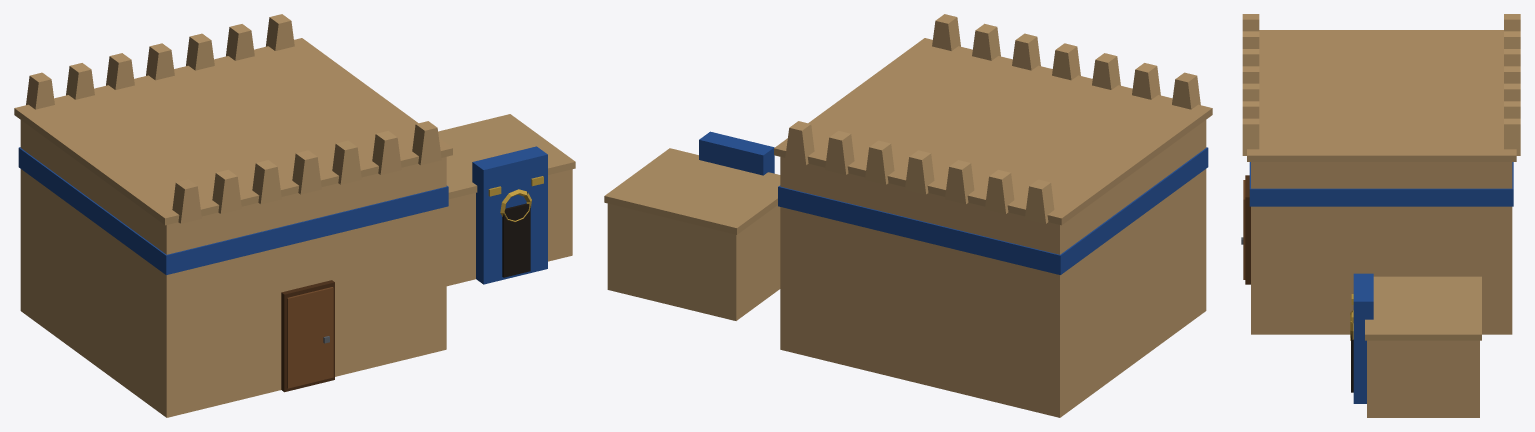
The model's file is minotaur_hall_broken.glb.
3 views of the same model, side by side, from view 1: azimuth 30°, elevation 25°; view 2: azimuth 150°, elevation 25°; view 3: azimuth 270°, elevation 25° (orthographic). The views are drawn at different scales.
Parts seen in each view (by area): view 1: minotaur_hall_piece6, minotaur_hall_piece1, minotaur_hall_piece3, minotaur_hall_piece11, minotaur_hall_piece8, minotaur_hall_piece4, minotaur_hall_piece9, minotaur_hall_piece0, minotaur_hall_piece2, minotaur_hall_piece13, minotaur_hall_piece10, minotaur_hall_piece5 (+1 smaller); view 2: minotaur_hall_piece1, minotaur_hall_piece13, minotaur_hall_piece6, minotaur_hall_piece4, minotaur_hall_piece0, minotaur_hall_piece5, minotaur_hall_piece8, minotaur_hall_piece9, minotaur_hall_piece3, minotaur_hall_piece2, minotaur_hall_piece12; view 3: minotaur_hall_piece4, minotaur_hall_piece9, minotaur_hall_piece13, minotaur_hall_piece5, minotaur_hall_piece8, minotaur_hall_piece1, minotaur_hall_piece7, minotaur_hall_piece0, minotaur_hall_piece2, minotaur_hall_piece6, minotaur_hall_piece3, minotaur_hall_piece10 (+2 smaller).
Part boxes in pixels (bbox=[...]): minotaur_hall_piece6: bbox=[88, 140, 293, 417]; minotaur_hall_piece1: bbox=[14, 64, 194, 365]; minotaur_hall_piece3: bbox=[137, 130, 405, 389]; minotaur_hall_piece11: bbox=[237, 172, 446, 306]; minotaur_hall_piece8: bbox=[175, 119, 402, 217]; minotaur_hall_piece4: bbox=[368, 96, 575, 217]; minotaur_hall_piece9: bbox=[249, 102, 452, 246]; minotaur_hall_piece0: bbox=[77, 24, 333, 105]; minotaur_hall_piece2: bbox=[158, 112, 446, 359]; minotaur_hall_piece13: bbox=[239, 14, 380, 106]; minotaur_hall_piece10: bbox=[446, 219, 547, 286]; minotaur_hall_piece5: bbox=[446, 195, 572, 261]; minotaur_hall_piece1: bbox=[876, 150, 1136, 417]; minotaur_hall_piece13: bbox=[774, 90, 925, 372]; minotaur_hall_piece6: bbox=[1066, 86, 1212, 362]; minotaur_hall_piece4: bbox=[604, 79, 880, 258]; minotaur_hall_piece0: bbox=[828, 103, 994, 288]; minotaur_hall_piece5: bbox=[607, 222, 842, 364]; minotaur_hall_piece8: bbox=[978, 25, 1198, 135]; minotaur_hall_piece9: bbox=[869, 14, 991, 133]; minotaur_hall_piece3: bbox=[1035, 99, 1159, 157]; minotaur_hall_piece2: bbox=[979, 121, 1052, 154]; minotaur_hall_piece12: bbox=[931, 124, 980, 177]; minotaur_hall_piece4: bbox=[1337, 146, 1493, 369]; minotaur_hall_piece9: bbox=[1242, 99, 1418, 282]; minotaur_hall_piece13: bbox=[1362, 111, 1520, 293]; minotaur_hall_piece5: bbox=[1350, 271, 1512, 417]; minotaur_hall_piece8: bbox=[1242, 14, 1401, 129]; minotaur_hall_piece1: bbox=[1384, 14, 1520, 86]; minotaur_hall_piece7: bbox=[1292, 224, 1403, 334]; minotaur_hall_piece0: bbox=[1379, 34, 1520, 135]; minotaur_hall_piece2: bbox=[1251, 67, 1427, 334]; minotaur_hall_piece6: bbox=[1259, 30, 1403, 55]; minotaur_hall_piece3: bbox=[1241, 51, 1412, 284]; minotaur_hall_piece10: bbox=[1302, 182, 1366, 403].
Bounding box in the file's own units: 5.19 × 2.38 × 2.94.
